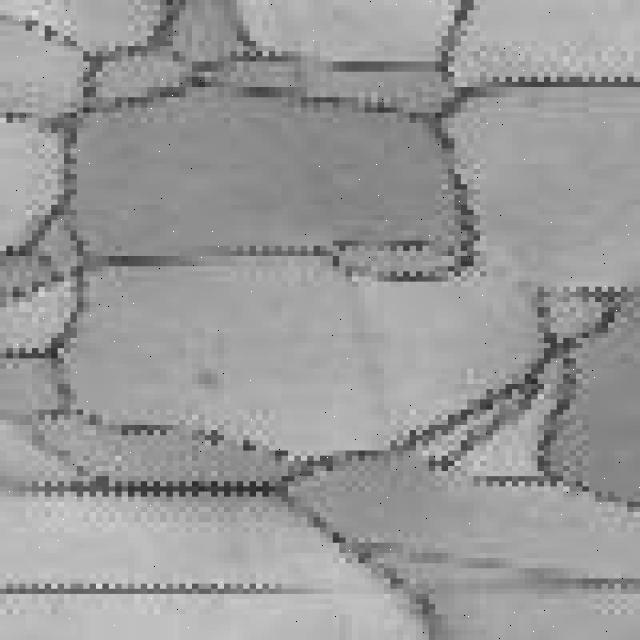good_void: (194, 371, 230, 390)
